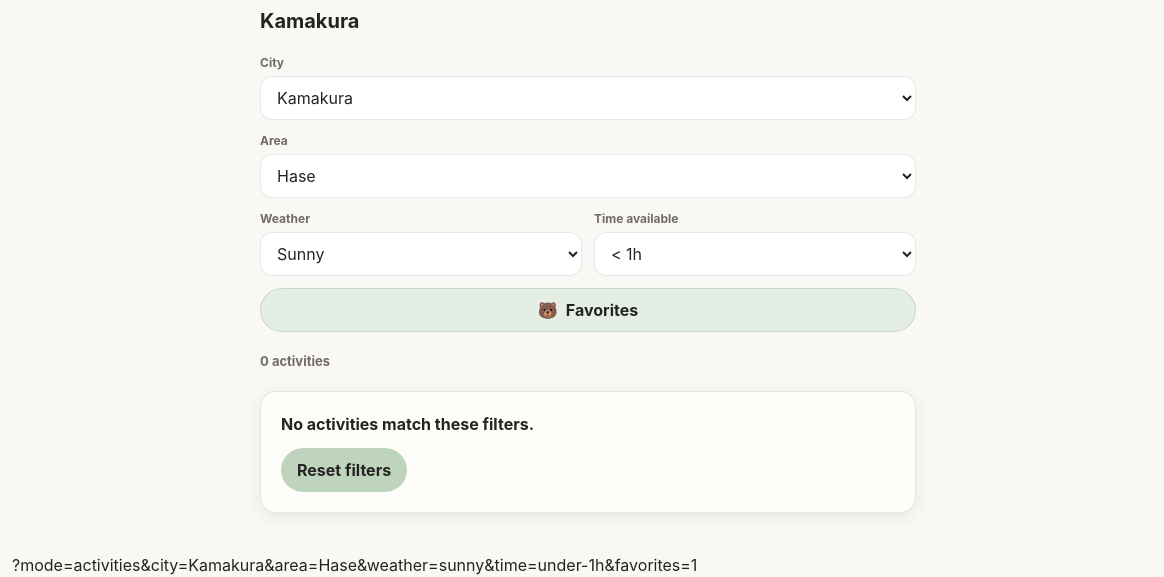
Test case: Explore Activities real catalogue › resets filters while preserving the selected city
(page scrolled)
Check: the heading "No activities match these filters." is shown, box [281, 412, 534, 436]
Click the button "Reset filters". click: [344, 470]
box: [281, 448, 407, 492]
(page scrolled)
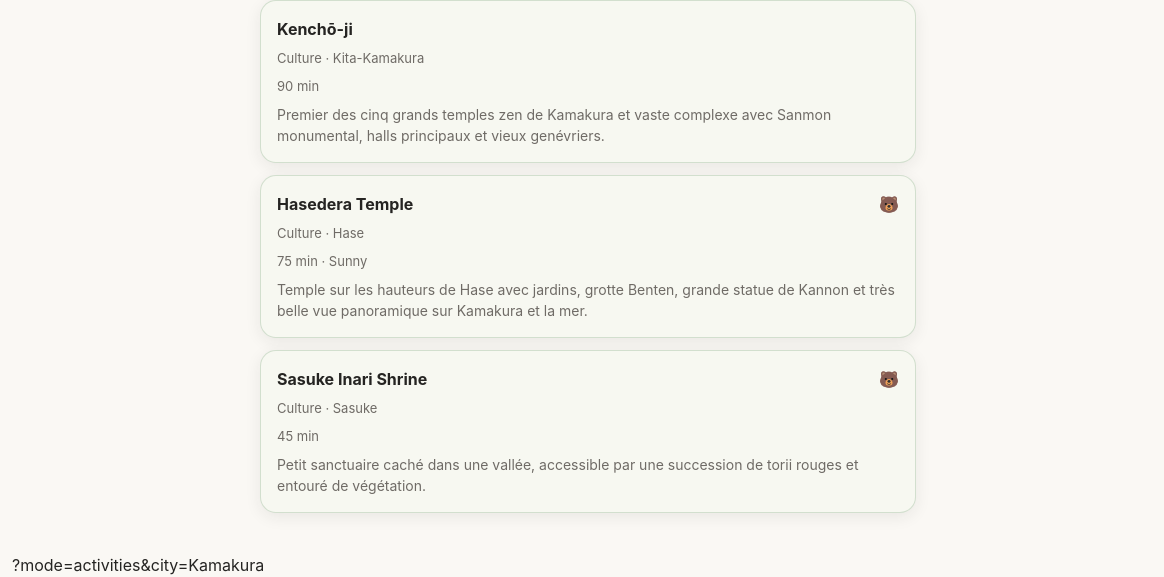
Check: the button "Hasedera Temple" is shown, box [260, 175, 916, 338]
